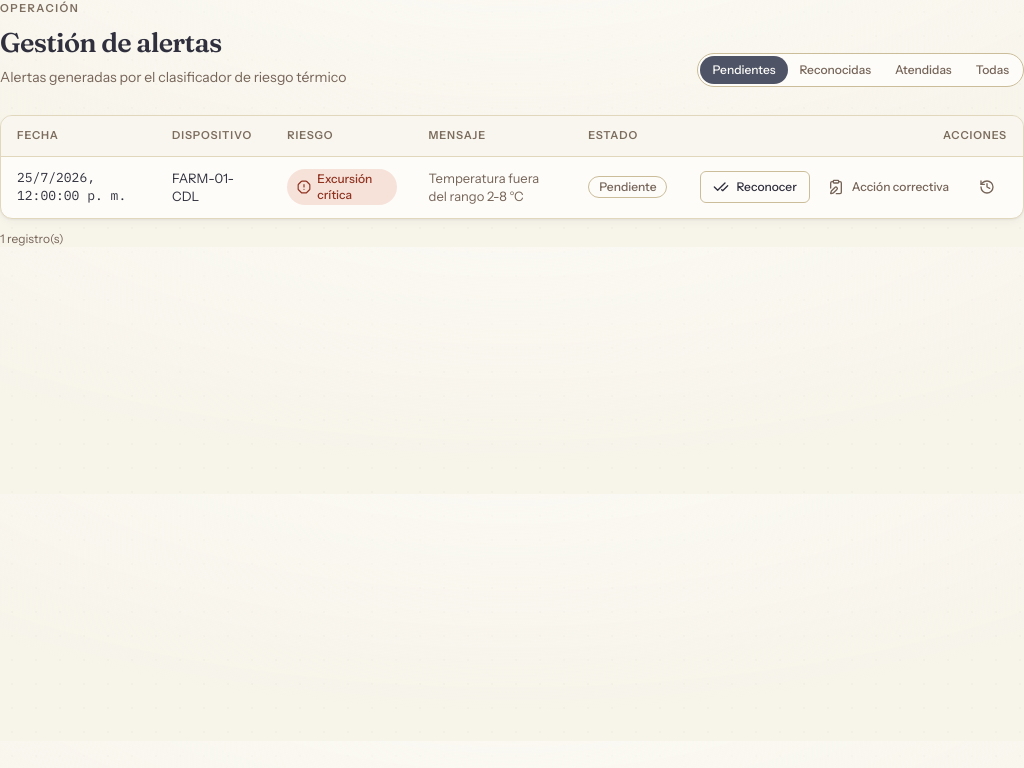
Test case: Alertas — ciclo completo de acción correctiva (RF-09, RF-10) › confirma el registro con un mensaje anunciado
The width and height of the screenshot is (1024, 768).
Step 1. Click the button "Acción correctiva" → (888, 187), box [816,171,961,203]
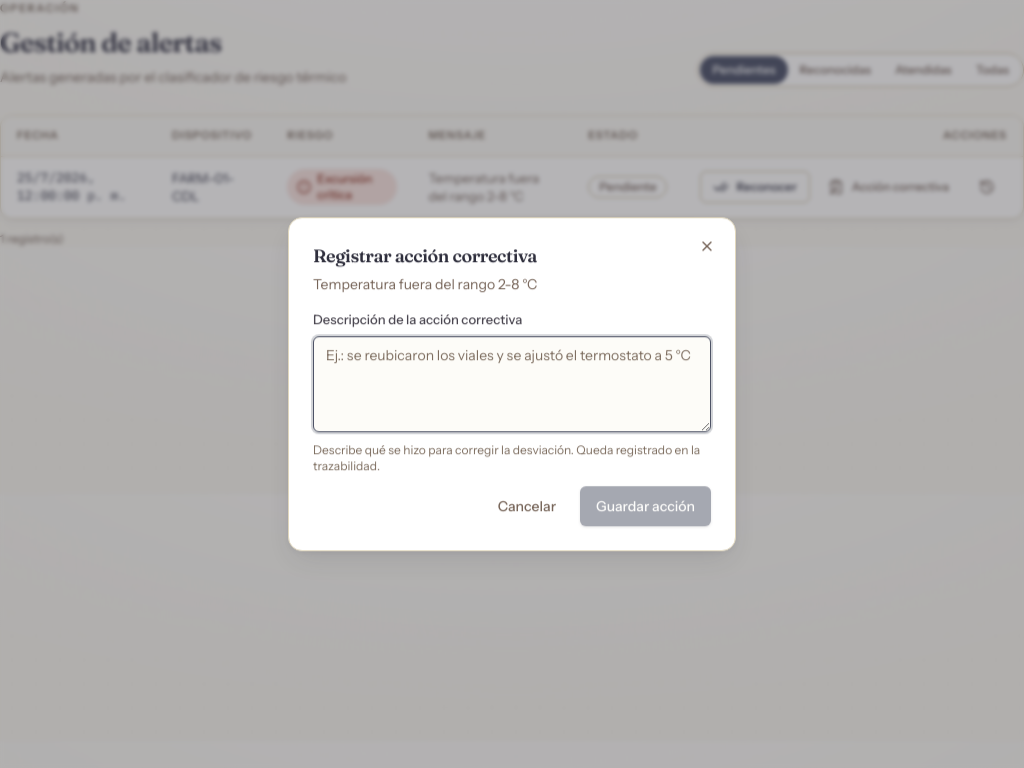
Step 2. Type "Termostato ajustado" into the text box labelled "Descripción de la acción correctiva" → (512, 384), box [313,336,711,432]
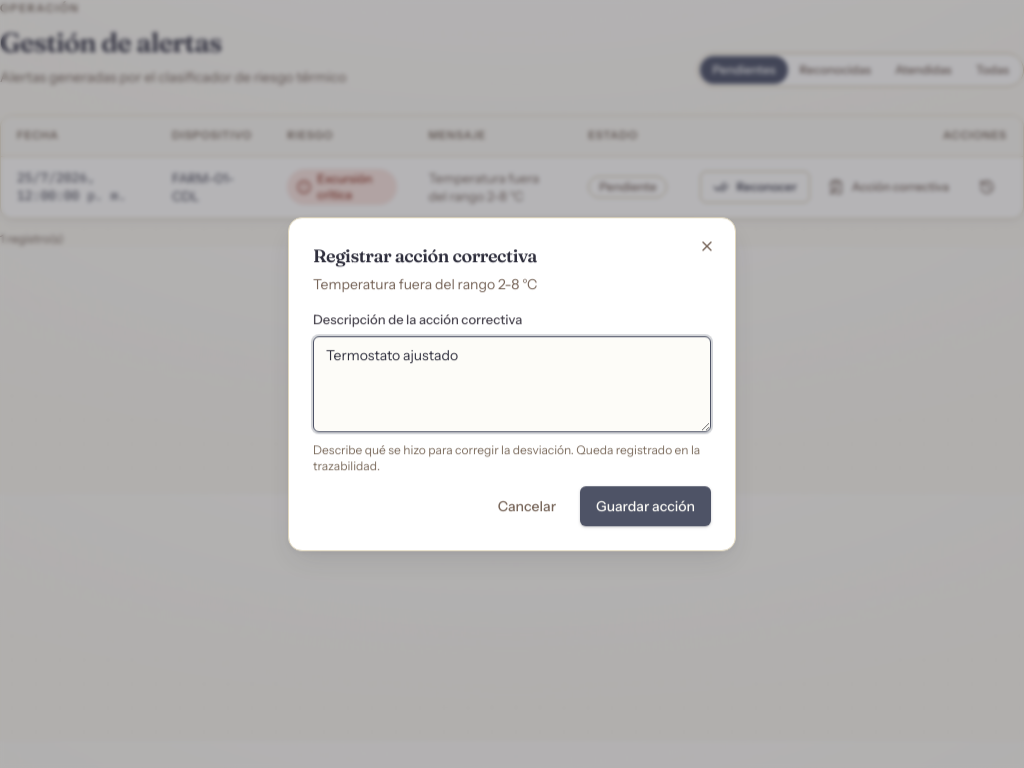
Step 3. Click the button "Guardar acción" → (646, 506), box [580,486,711,526]
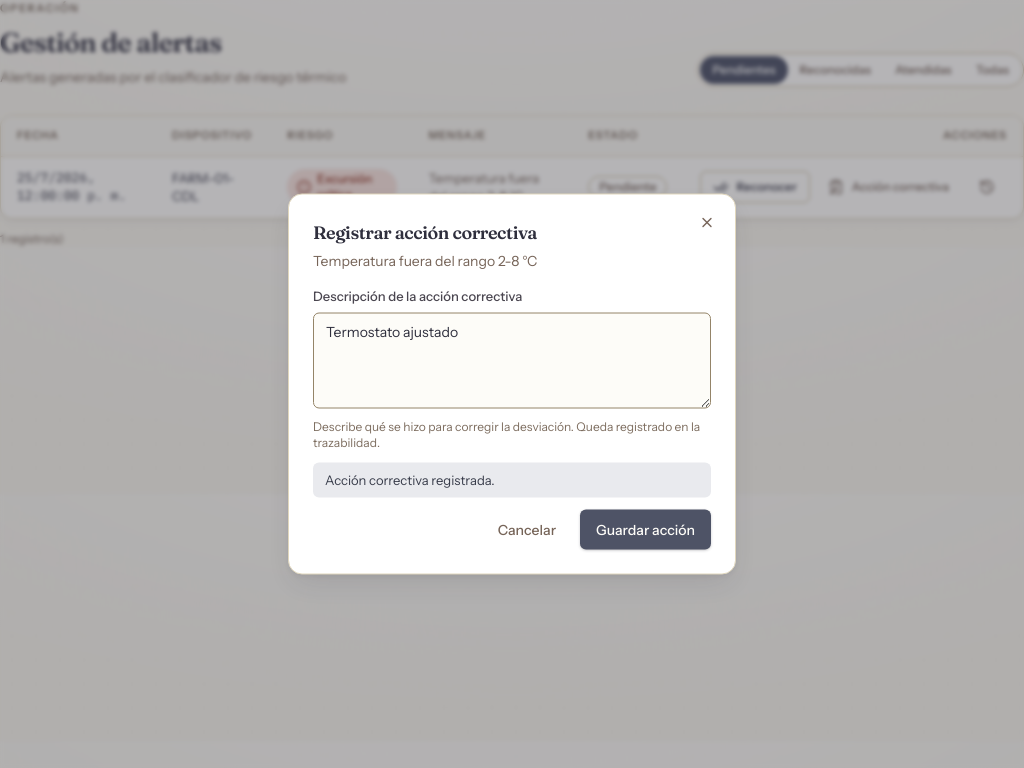
Result: the message shows "registrada" at [325,471,495,487]
